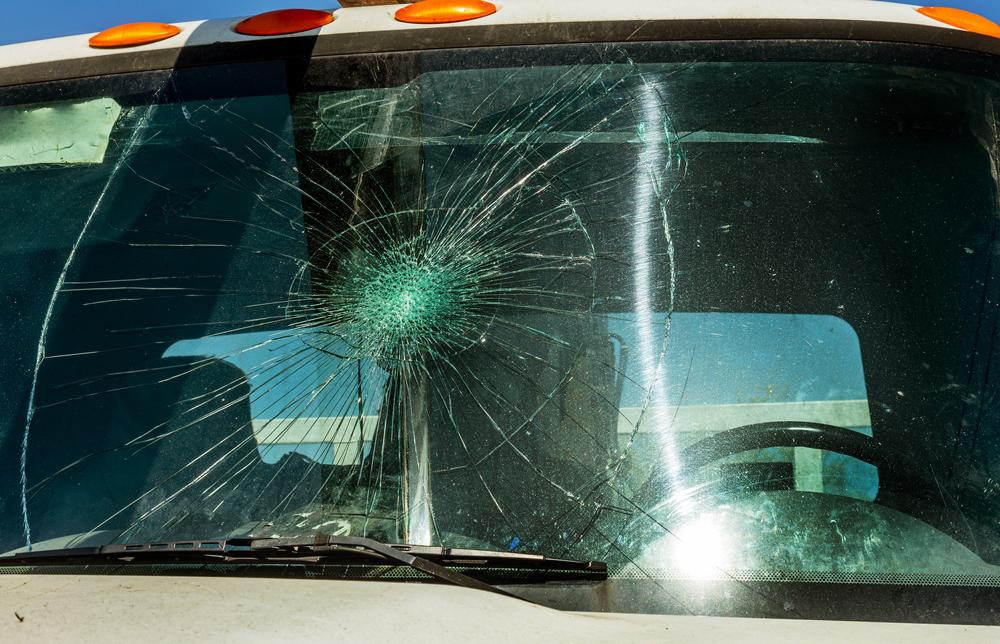glass shatter: (0, 39, 1000, 627)
